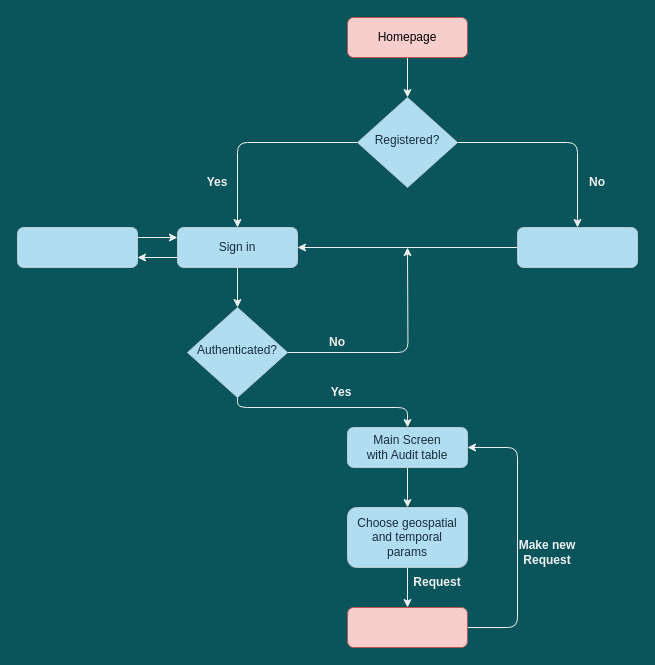
This 655x665 diagram has some shape labels left out. The shapes that lost their labels are listed below. From the top down, each one's box as (x1, y1, x2, y2) in pixels, then its label:
(16, 226, 138, 268): Forgot Password
(516, 226, 638, 268): Sign up
(346, 606, 468, 648): Visualization Screen
